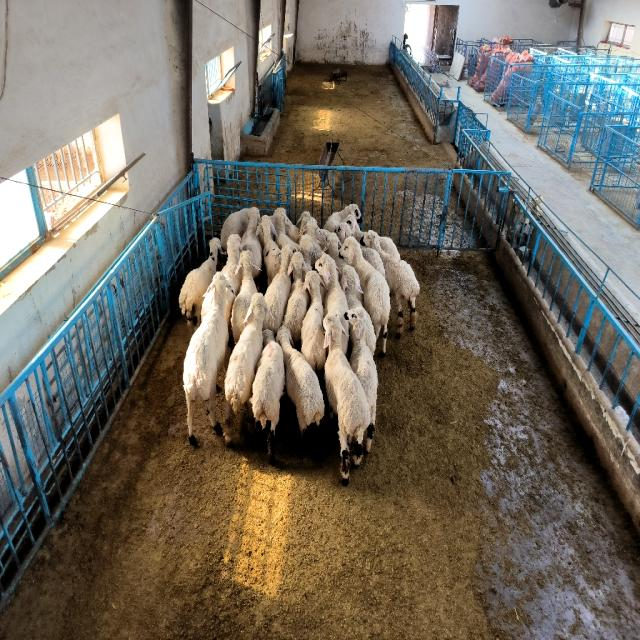sheep: (182, 273, 232, 443), (324, 313, 370, 484), (224, 293, 269, 444), (364, 230, 420, 336), (340, 237, 390, 354), (276, 327, 324, 434), (345, 308, 378, 451), (251, 330, 285, 464), (179, 238, 221, 326), (315, 253, 349, 352), (340, 263, 376, 354), (282, 252, 310, 348), (264, 245, 294, 332), (301, 270, 326, 372), (231, 250, 258, 342), (259, 215, 281, 284), (241, 207, 262, 278), (221, 233, 242, 294), (220, 208, 249, 250), (272, 207, 299, 250), (324, 203, 361, 232), (325, 232, 348, 272), (305, 218, 324, 259), (361, 247, 385, 276), (338, 217, 364, 242), (299, 235, 315, 269), (344, 215, 364, 241), (379, 238, 400, 259)
